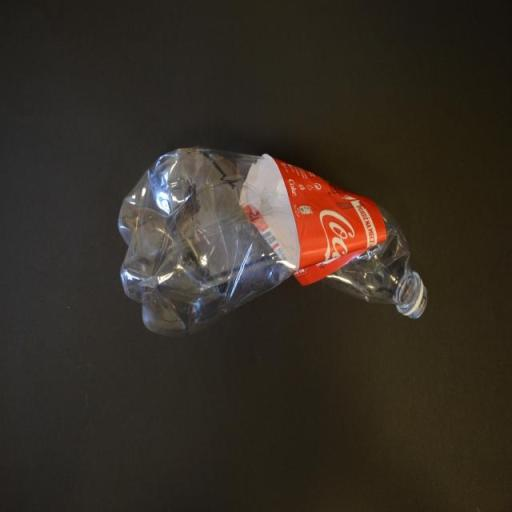plastic: (117, 144, 427, 334)
